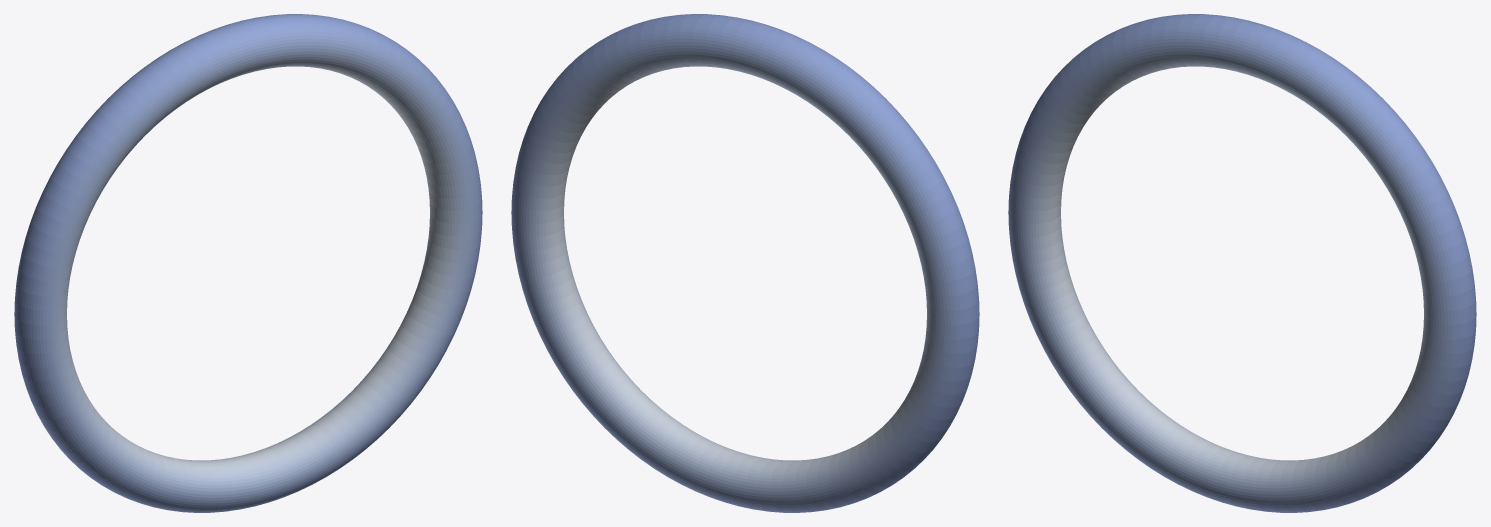
3 views of the same model, side by side, from view 1: azimuth 30°, elevation 25°; view 2: azimuth 150°, elevation 25°; view 3: azimuth 330°, elevation 25° (orthographic).
Visible parts, largest first — view 1: world; view 2: world; view 3: world.
Part boxes in pixels (x1,y1,x2,y2): world: (14,14,482,512); world: (511,14,979,512); world: (1008,14,1476,512).
Bounding box in the file's own units: 31.07 × 31.07 × 3.06.
